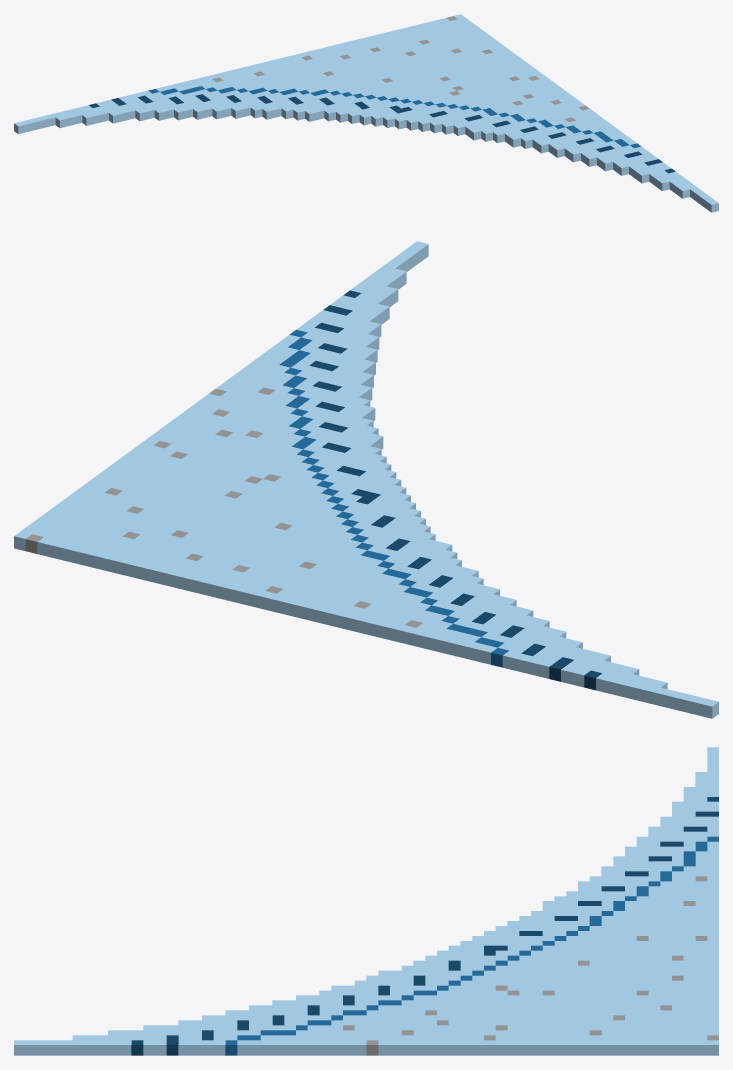
File: 90_Large-1.obj
The picture shows the model from 3 angles, top to bottom: view 1: azimuth 30°, elevation 25°; view 2: azimuth 150°, elevation 25°; view 3: azimuth 270°, elevation 25°; orthographic projection. The views are drawn at different scales.
Visible parts, largest first — view 1: 90_Large-1; view 2: 90_Large-1; view 3: 90_Large-1.
Part boxes in pixels (x1=…): 90_Large-1: x1=14, y1=14, x2=718, y2=212; 90_Large-1: x1=14, y1=241, x2=718, y2=718; 90_Large-1: x1=14, y1=747, x2=718, y2=1055.
Bounding box in the file's own units: 60 × 1 × 60.
1 material, 1 textured.
